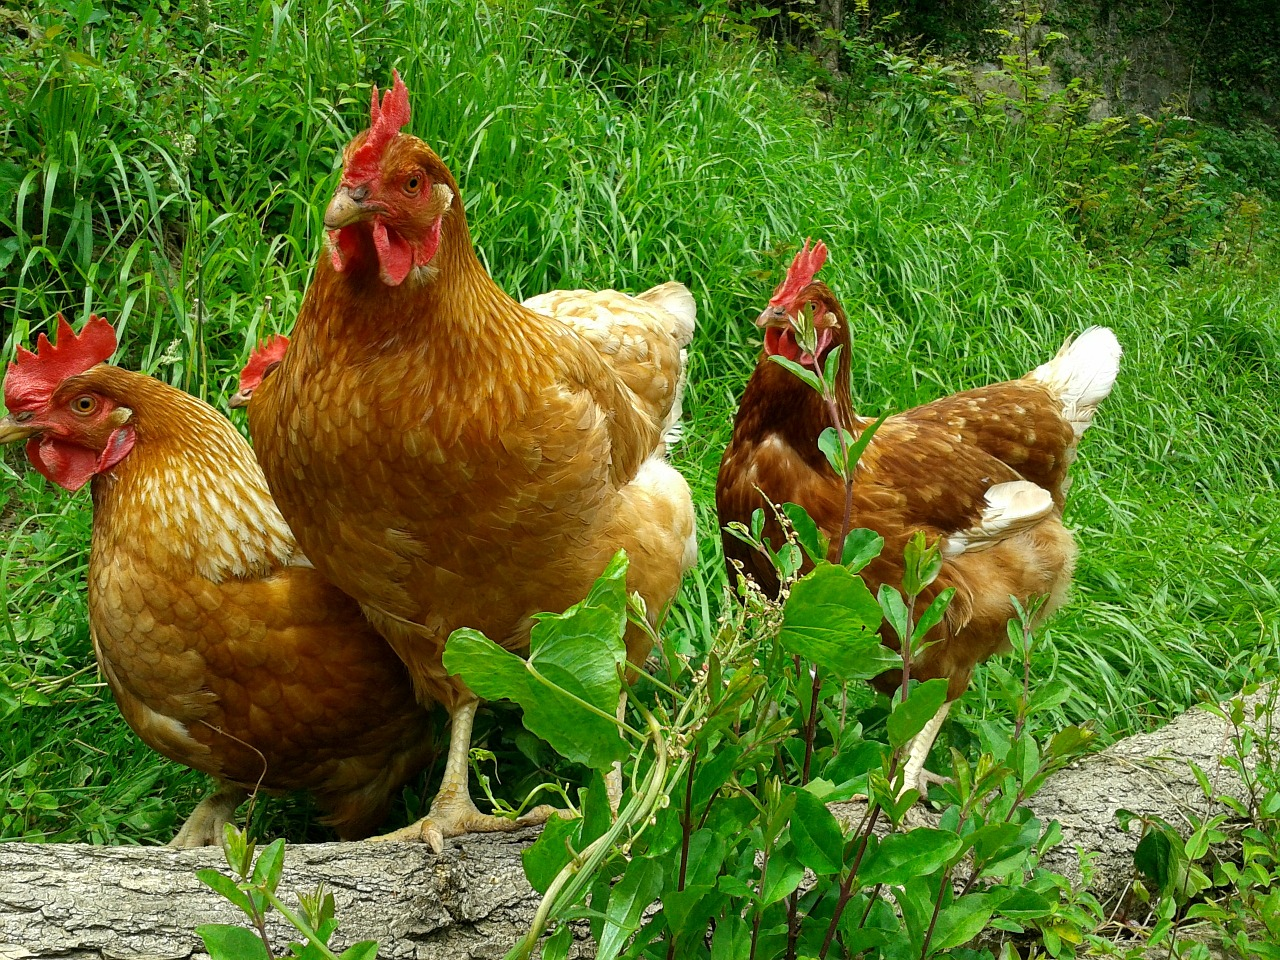chicken: (260, 63, 706, 851), (721, 229, 1119, 767), (1, 301, 347, 839)
